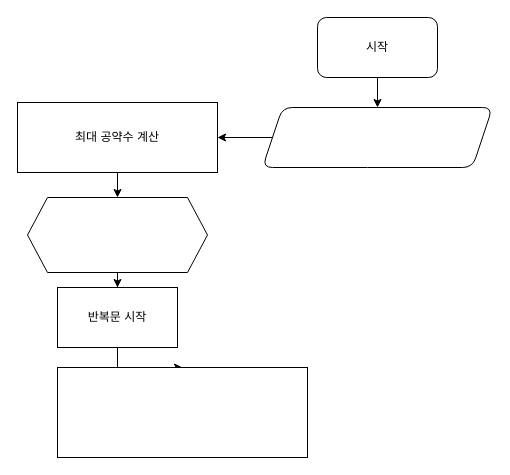
The diagram is 510 pixels wide and 475 high, and some of its shapes have lost their labels. Each missing label, with the centre of its shape:
"2개의 정수(num1, num2) 입 력" belongs at (377,137).
"숫자1을 a, 숫자2를 b 초기화" belongs at (117,234).
